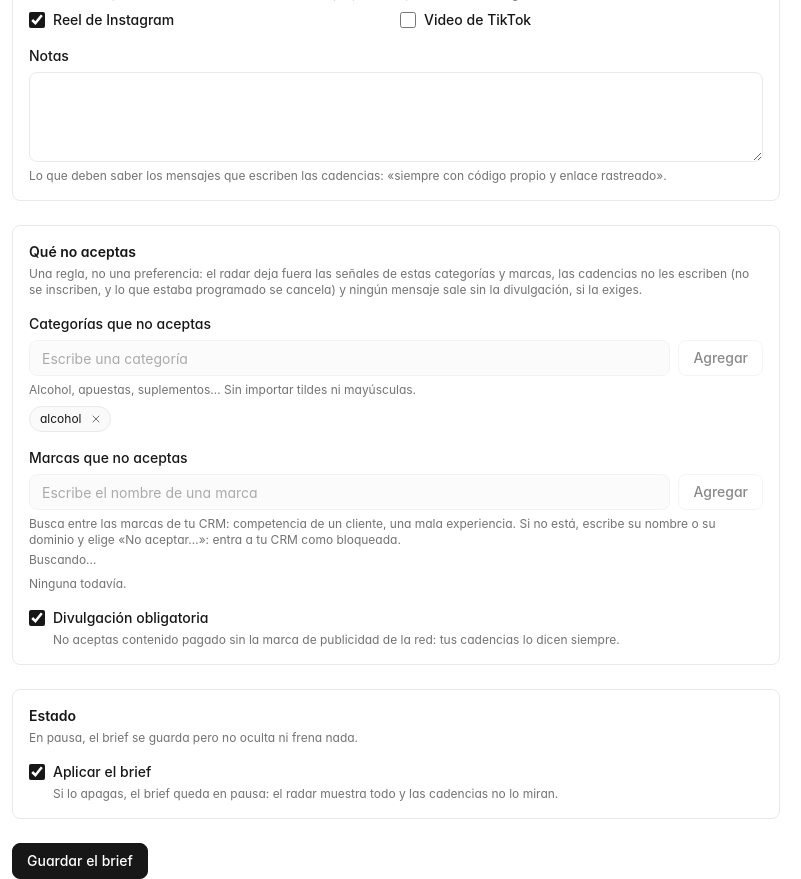
Test: BriefForm › el «Guardado» sale junto al botón y se lleva el foco: a 400 px, arriba no se veía (VEN-7 r4)
(page scrolled)
Click the button "Guardar el brief". click: (80, 861)
box: [12,843,148,878]
(page scrolled)
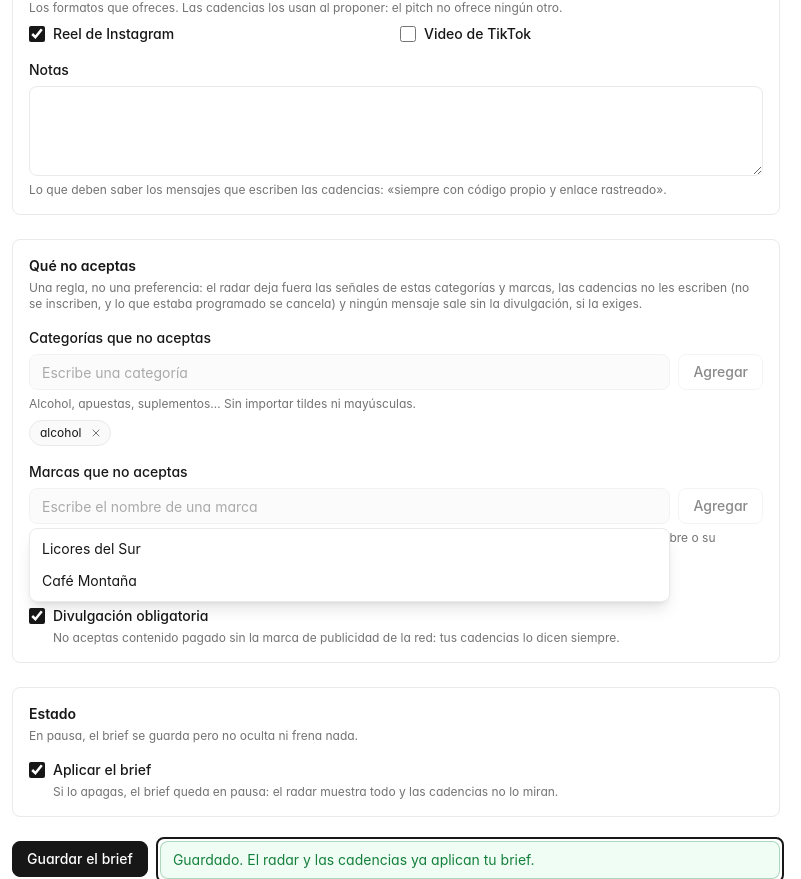
expect the message reads "Guardado. El radar y las cadencias ya aplican tu brief.": met, box [173,851,535,868]
